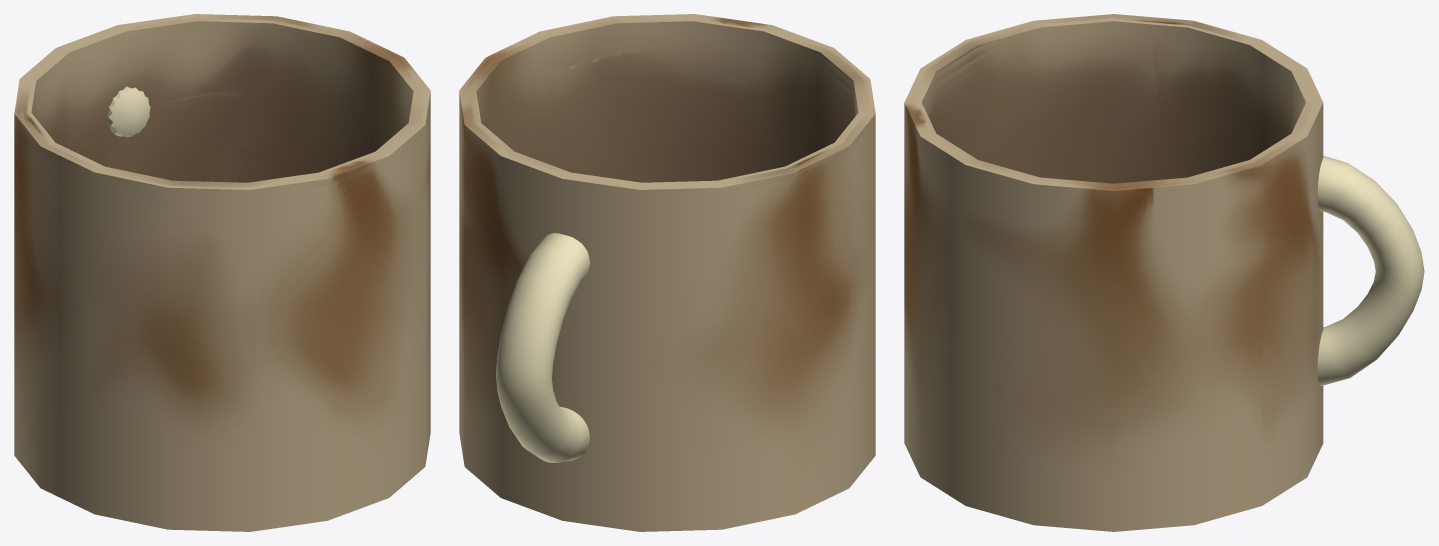
File: cup_dirty.fbx
The picture shows the model from 3 angles, left to right: view 1: azimuth 30°, elevation 25°; view 2: azimuth 150°, elevation 25°; view 3: azimuth 270°, elevation 25°; orthographic projection.
Parts seen in each view (by area): view 1: DirtyCup; view 2: DirtyCup; view 3: DirtyCup.
Boxes of the visible parts, x1=… form: DirtyCup: x1=14, y1=14, x2=430, y2=531; DirtyCup: x1=459, y1=14, x2=875, y2=531; DirtyCup: x1=904, y1=14, x2=1424, y2=531.
Bounding box in the file's own units: 180 × 162 × 223.
2 materials, 1 textured.
